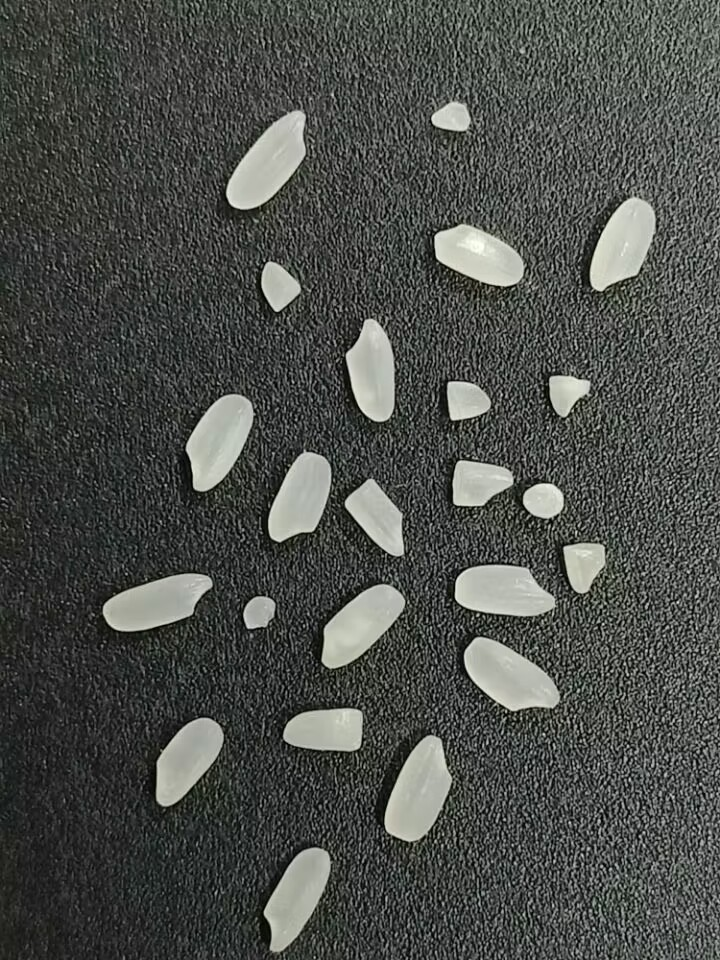broken: (340, 477, 409, 562), (447, 452, 516, 517), (280, 706, 365, 755), (560, 537, 609, 596), (443, 376, 498, 428), (259, 258, 302, 313), (547, 372, 591, 418), (428, 96, 475, 134), (523, 483, 563, 519), (242, 596, 276, 628)
rice: (220, 105, 308, 211), (319, 582, 407, 670), (261, 846, 332, 954), (383, 732, 452, 843), (463, 635, 562, 712), (181, 393, 255, 493), (97, 572, 214, 632), (431, 219, 526, 289), (263, 450, 332, 545), (153, 717, 224, 808), (588, 196, 656, 291), (340, 314, 396, 423), (451, 564, 559, 618)
